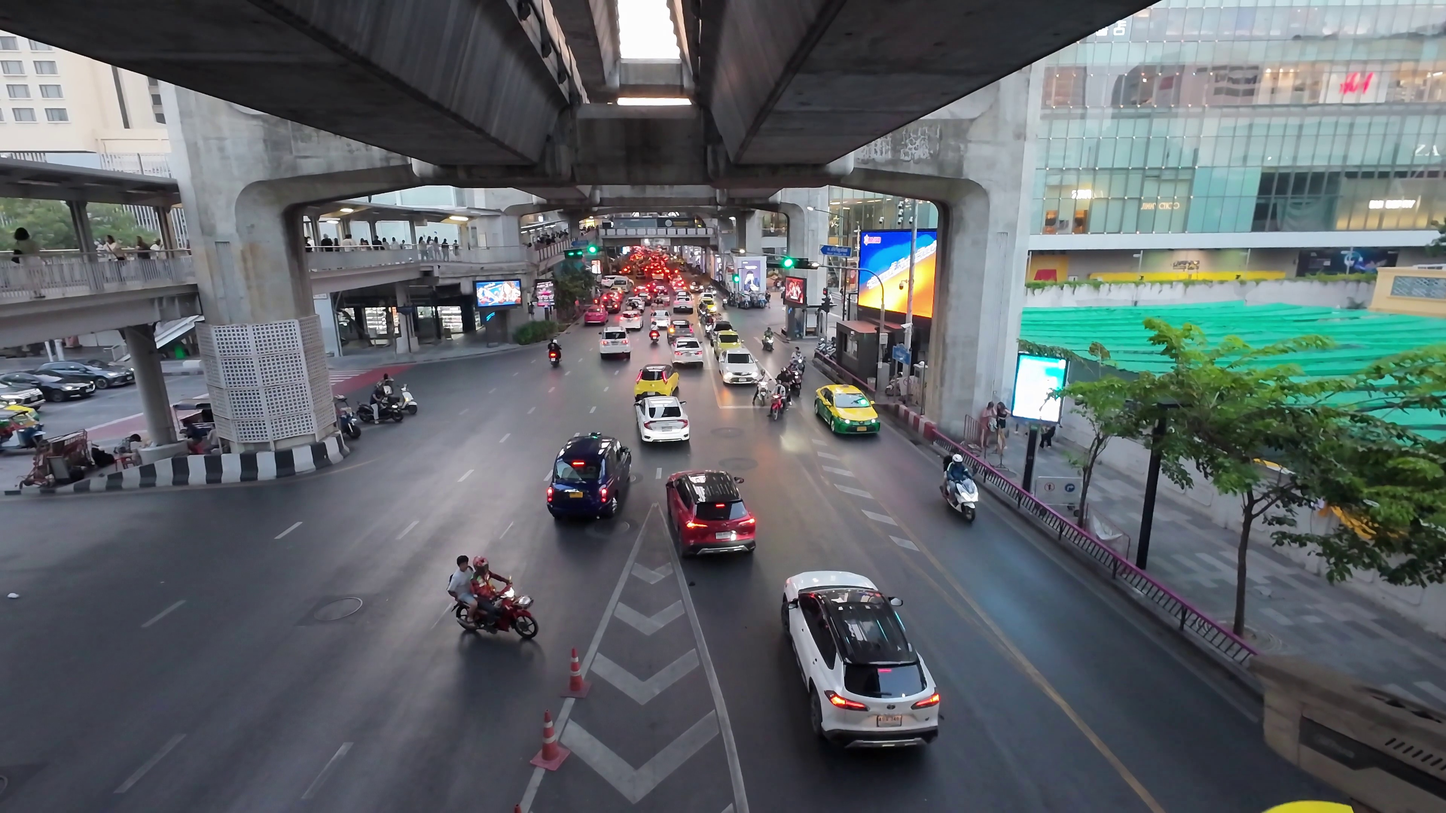license_plate: (821, 677, 903, 735), (821, 679, 903, 736), (688, 522, 735, 550), (567, 486, 610, 515), (470, 615, 516, 637), (831, 417, 865, 435), (26, 386, 75, 398), (949, 503, 970, 520), (649, 420, 674, 434), (376, 410, 404, 422), (732, 373, 752, 384), (681, 353, 697, 362), (608, 345, 624, 354)
motorcycle: (447, 551, 539, 642), (362, 376, 419, 425), (940, 455, 980, 524)
no_seatbelt: (805, 596, 919, 687), (805, 598, 919, 688), (679, 482, 744, 526), (558, 446, 619, 490), (824, 392, 872, 420), (17, 369, 84, 388), (644, 400, 679, 422), (728, 358, 757, 375), (605, 332, 627, 347), (678, 341, 700, 355)
